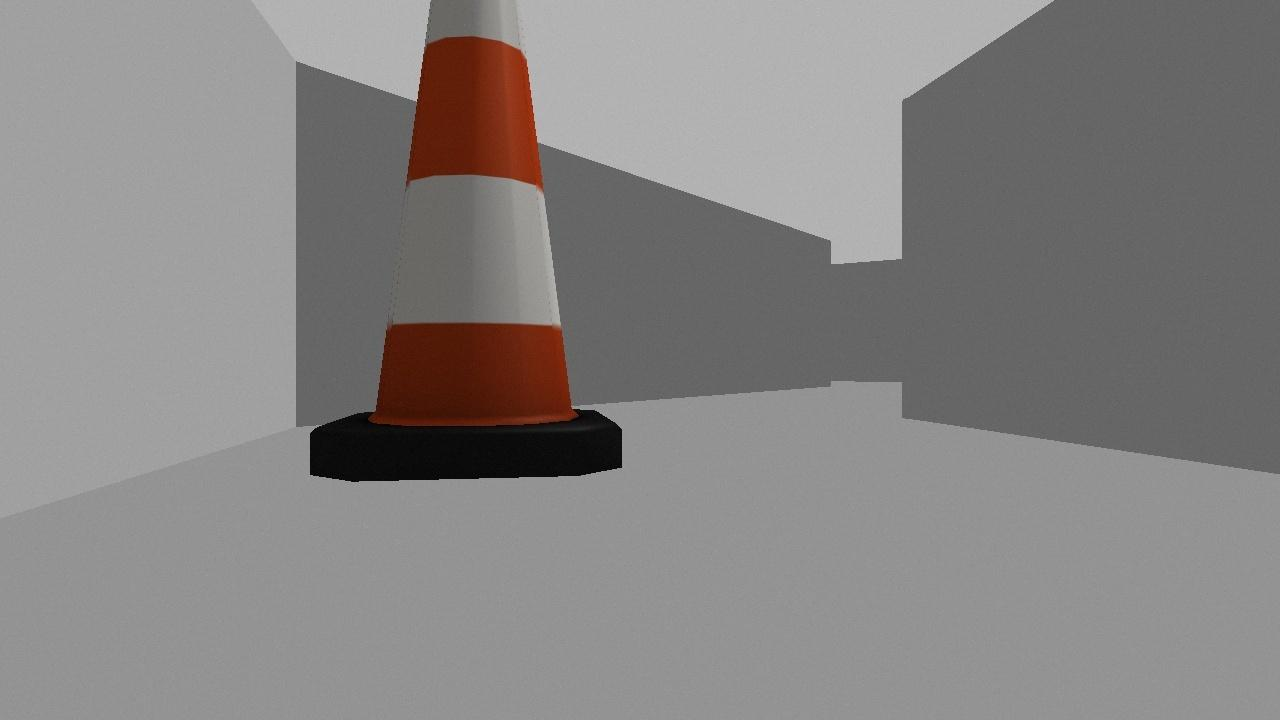cone_barrel: (308, 0, 620, 480)
